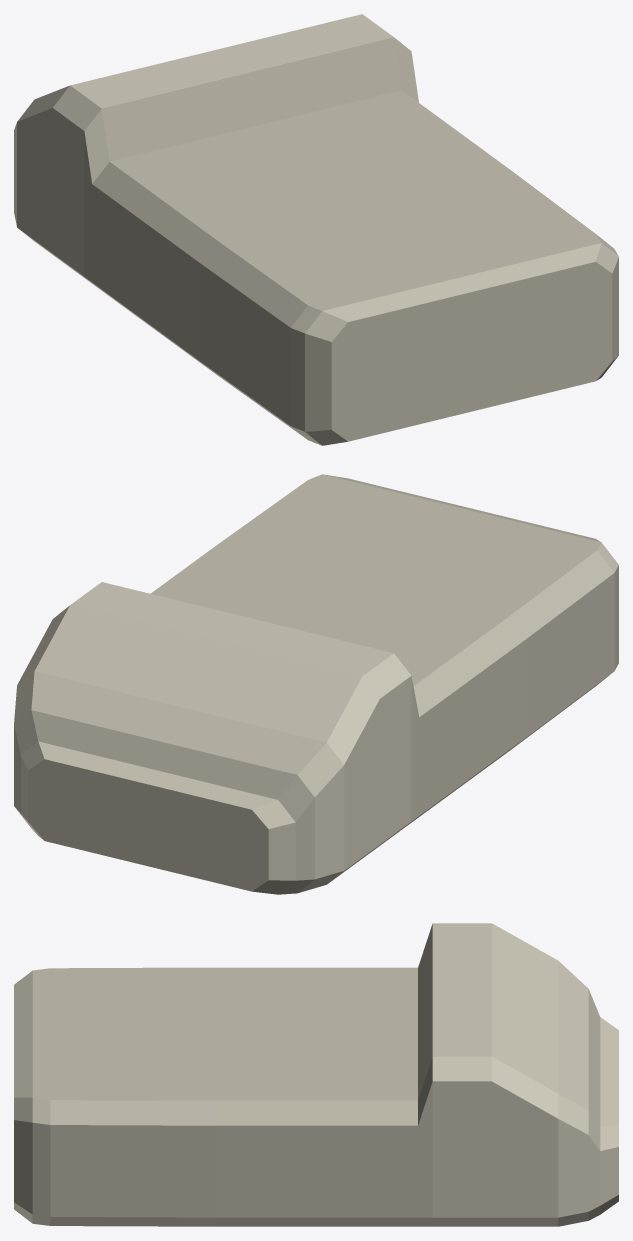
The model's file is durham_medium_a.glb.
3 views of the same model, one above another, from view 1: azimuth 30°, elevation 25°; view 2: azimuth 150°, elevation 25°; view 3: azimuth 270°, elevation 25° (orthographic). The views are drawn at different scales.
Visible parts, largest first — view 1: durham_medium_a; view 2: durham_medium_a; view 3: durham_medium_a.
Part boxes in pixels (box(x1,y1,x2,y2)): durham_medium_a: box(14, 14, 618, 445); durham_medium_a: box(14, 474, 618, 894); durham_medium_a: box(14, 923, 618, 1226).
Size of the model in its own units: 3.5 by 1.86 by 6.
